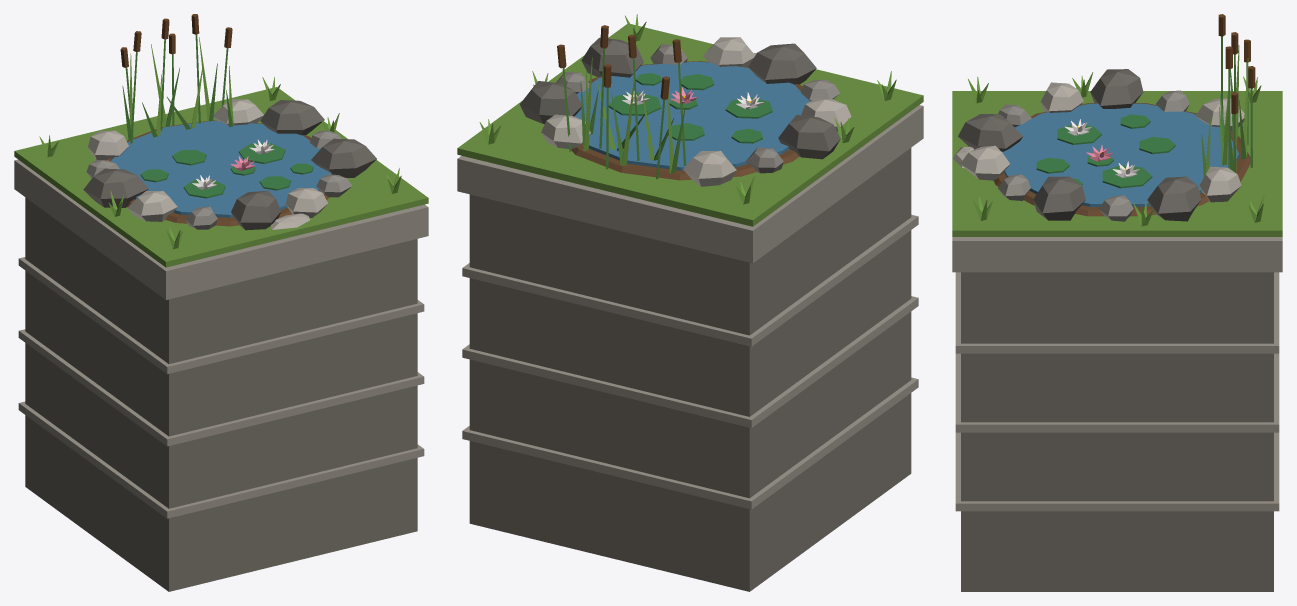
Rendered from decor_pond.glb.
3 views of the same model, side by side, from view 1: azimuth 30°, elevation 25°; view 2: azimuth 150°, elevation 25°; view 3: azimuth 270°, elevation 25° (orthographic). The views are drawn at different scales.
Visible parts, largest first — view 1: decor_pond; view 2: decor_pond; view 3: decor_pond.
Part boxes in pixels (x1=…): decor_pond: x1=14, y1=14, x2=428, y2=591; decor_pond: x1=457, y1=14, x2=923, y2=591; decor_pond: x1=952, y1=14, x2=1282, y2=591.
Size of the model in its own units: 3.8 by 6.23 by 3.8.
